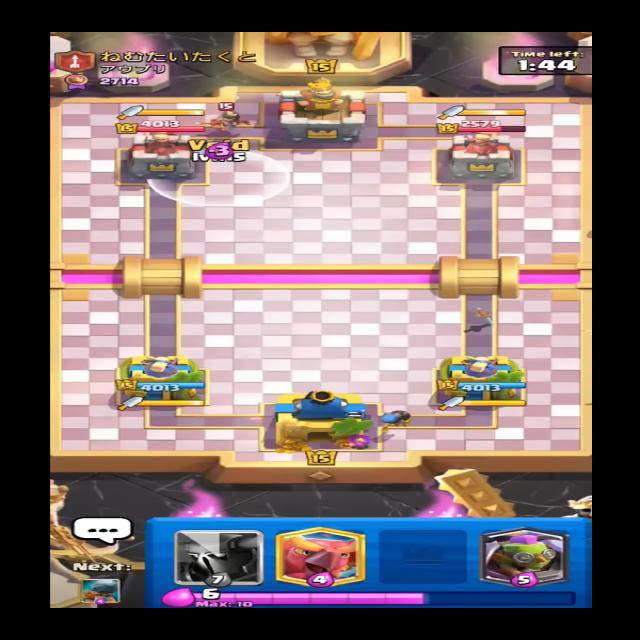Princess: (208, 102, 248, 132)
